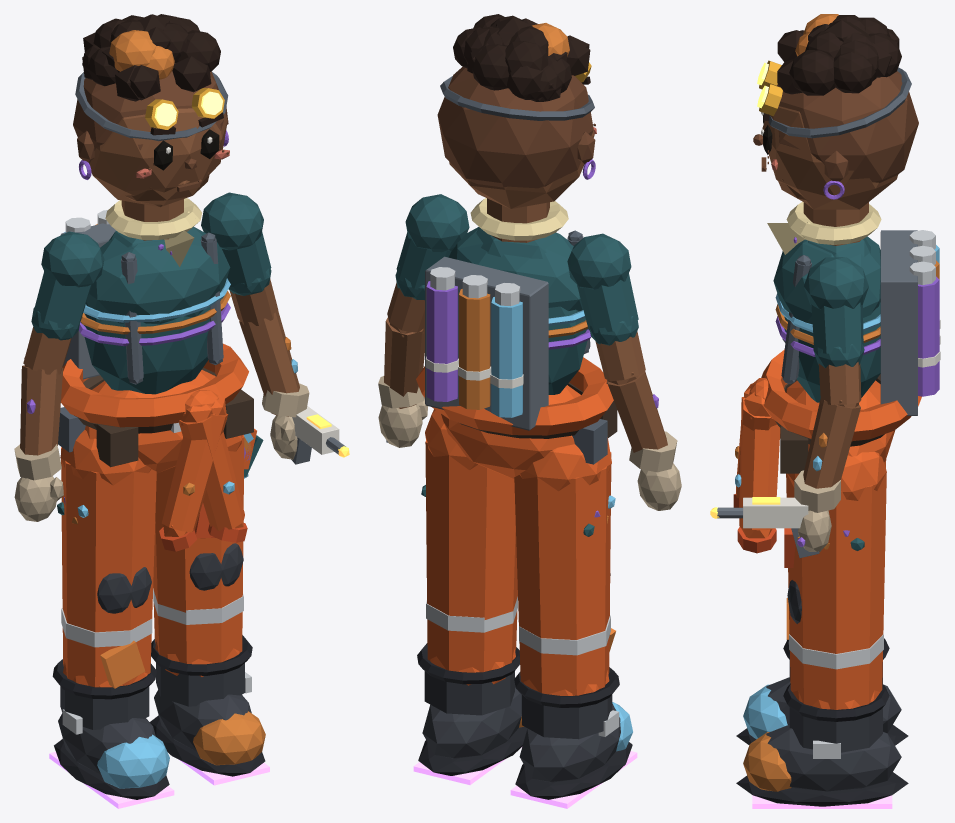
File: ines.glb
3 renders of one model, left to right at view 1: azimuth 30°, elevation 25°; view 2: azimuth 150°, elevation 25°; view 3: azimuth 270°, elevation 25°, orthographic.
Visible parts, largest first — view 1: leg_-1, leg_1, chest, head, torso, tied_sleeves, sleeve_hang_b, hair_shave, fore_-1, sleeve_hang_a, fore_1, toe_1 (+52 smaller); view 2: leg_-1, leg_1, hair_shave, pack_frame, tied_sleeves, boot_1, chest, hips, boot_-1, can_2, can_0, can_1 (+38 smaller); view 3: leg_1, hair_shave, pack_frame, boot_1, head, tied_sleeves, chest, fore_1, sleeve_hang_a, shoulder_1, torso, cuff_1 (+40 smaller).
Part boxes in pixels (x1,y1,x2,y2): leg_-1: (61,447,156,687); leg_1: (153,435,244,663); chest: (86,226,230,324); head: (89,85,227,207); torso: (80,231,220,394); tied_sleeves: (61,343,248,427); sleeve_hang_b: (162,414,228,532); hair_shave: (73,63,226,163); fore_-1: (20,365,63,455); sleeve_hang_a: (179,413,244,530); fore_1: (239,310,299,396); toe_1: (193,711,265,765); leg_-1: (514,452,611,695); leg_1: (425,439,517,672); hair_shave: (437,66,593,188); pack_frame: (425,256,548,430); tied_sleeves: (416,357,613,435); boot_1: (422,685,521,758); chest: (448,227,583,311); hips: (441,385,580,478); boot_-1: (519,703,620,782); can_2: (426,281,457,401); can_0: (491,297,522,417); can_1: (459,289,490,409); leg_1: (786,472,886,709); hair_shave: (778,71,918,182); pack_frame: (880,230,917,415); boot_1: (766,724,901,791); head: (762,84,898,209); tied_sleeves: (761,349,921,441); chest: (773,236,880,329); fore_1: (803,399,860,488); sleeve_hang_a: (739,397,780,530); shoulder_1: (804,257,868,309); torso: (784,238,880,402); cuff_1: (789,707,882,752).
Bounding box in the file's own units: 0.7383 × 1.78 × 0.4929.
